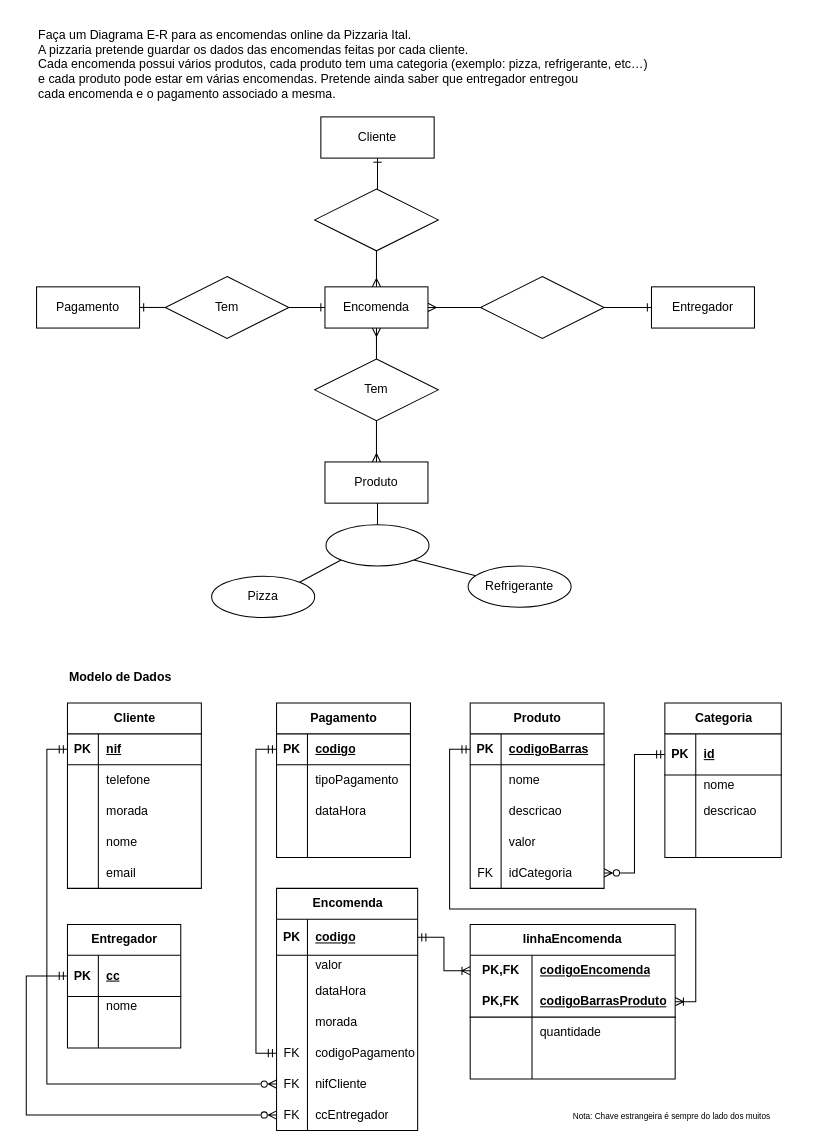
The diagram is 816 pixels wide and 1148 high, and some of its shapes have lost their labels. Here are the shapes that lost their labels. From the top down, the centre of each, then its label:
point (376, 219): Faz
point (541, 307): Entrega
point (377, 545): Tipo/Categoria
